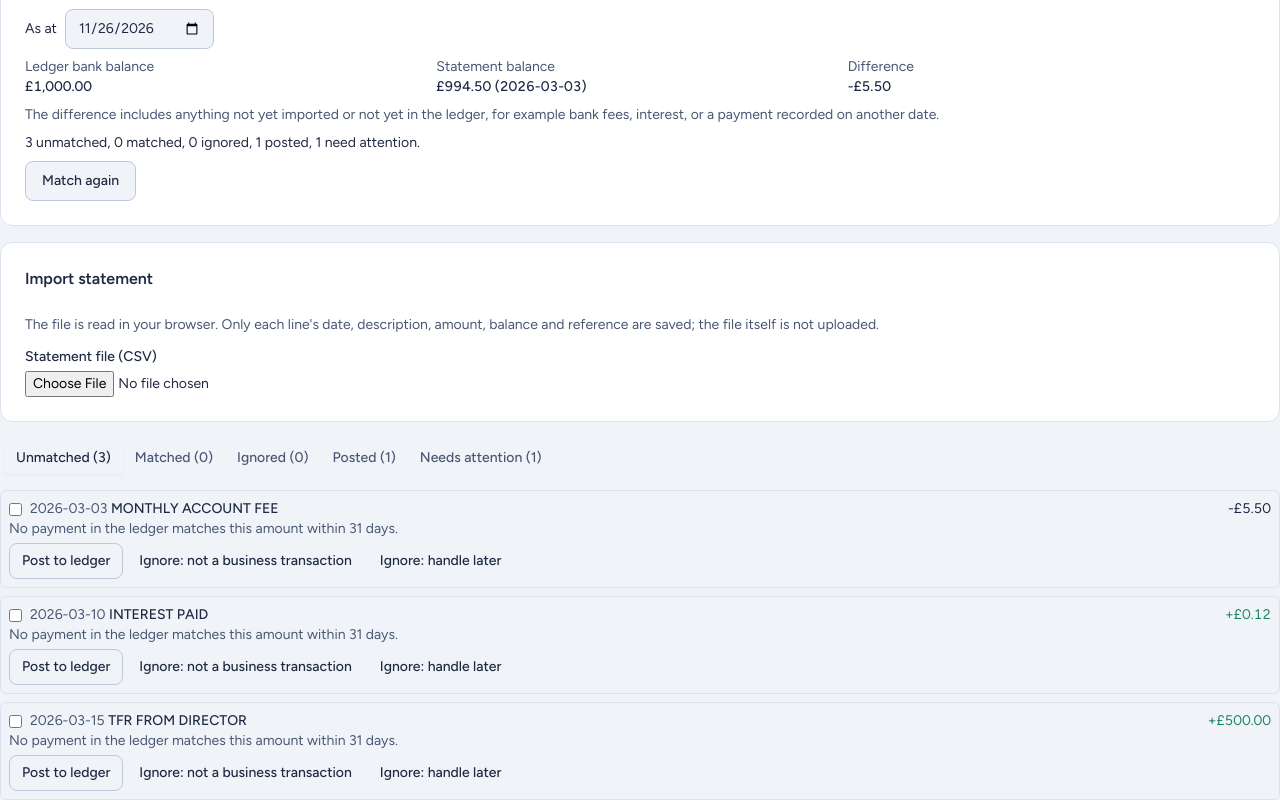
Bank: post a line to the ledger › MFA_REQUIRED asks for the authenticator
The width and height of the screenshot is (1280, 800).
(page scrolled)
Expected: the text "MONTHLY ACCOUNT FEE" is shown, left=111, top=500, right=279, bottom=517
Click the button "Post to ledger" below "MONTHLY ACCOUNT FEE": (66, 561) left=9, top=543, right=123, bottom=579
(page scrolled)
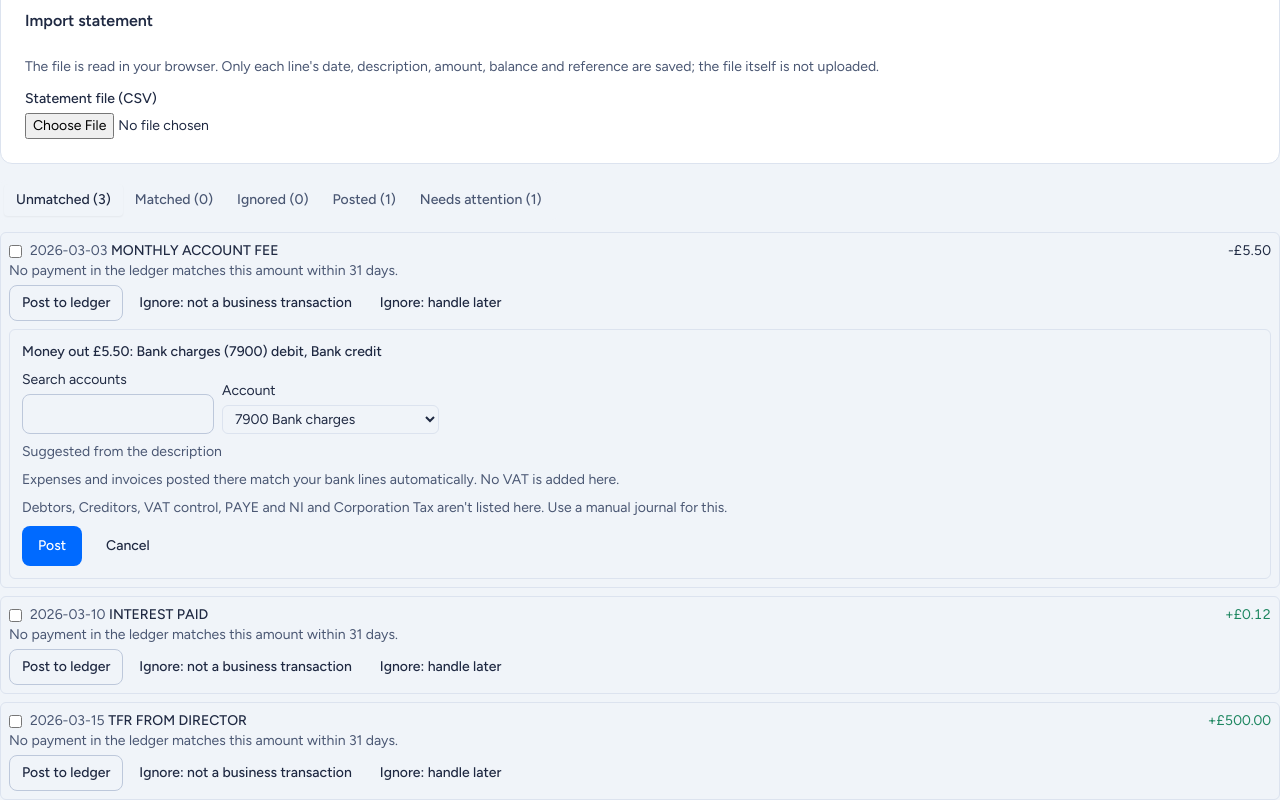
Click the button "Post": (52, 546) left=22, top=526, right=82, bottom=566
(page scrolled)
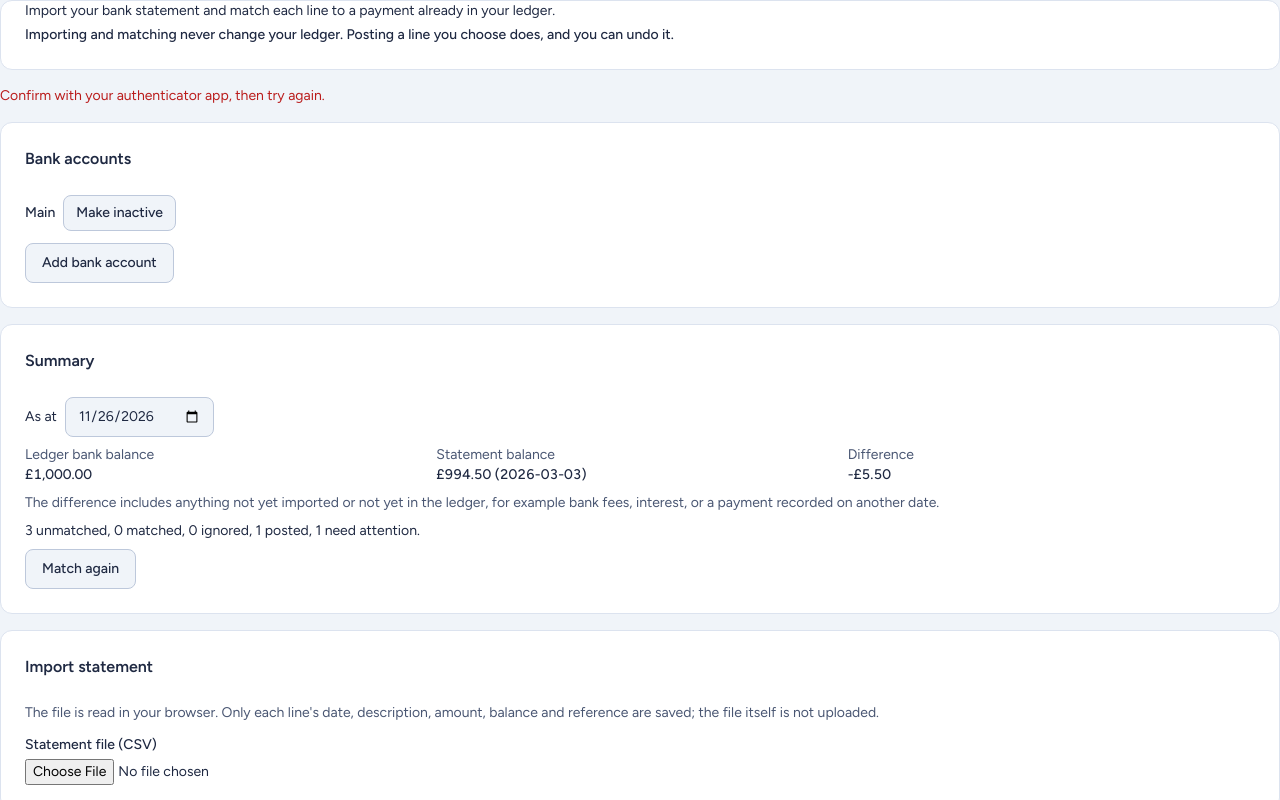
Expected: the message with test id "bank-error" reads "Confirm with your authenticator app, then try again.", left=0, top=87, right=325, bottom=104
